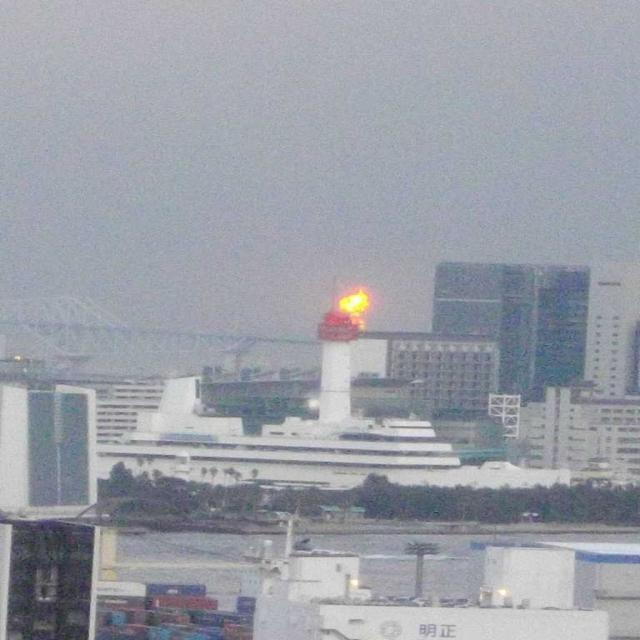Fire: (331, 296, 377, 324)
